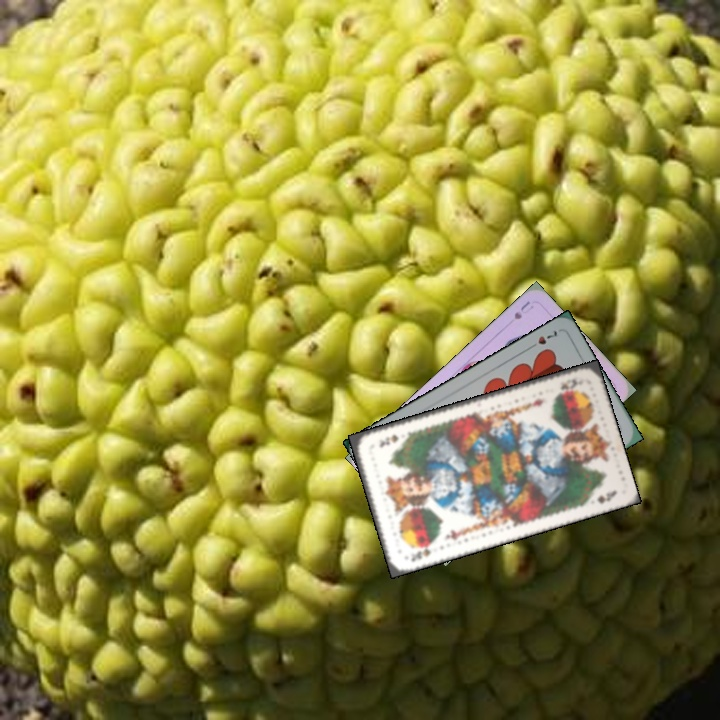H7: (524, 326, 560, 352)
SK: (407, 540, 436, 564), (557, 375, 583, 394)
SU: (510, 297, 536, 322)
